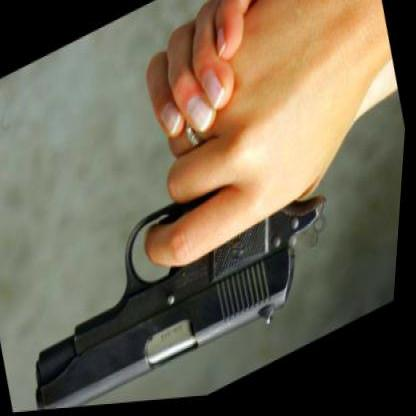pistol: (12, 132, 354, 412)
